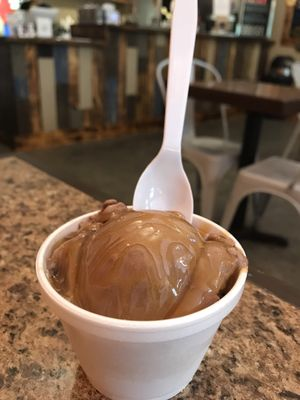pizza: (34, 199, 248, 400)
